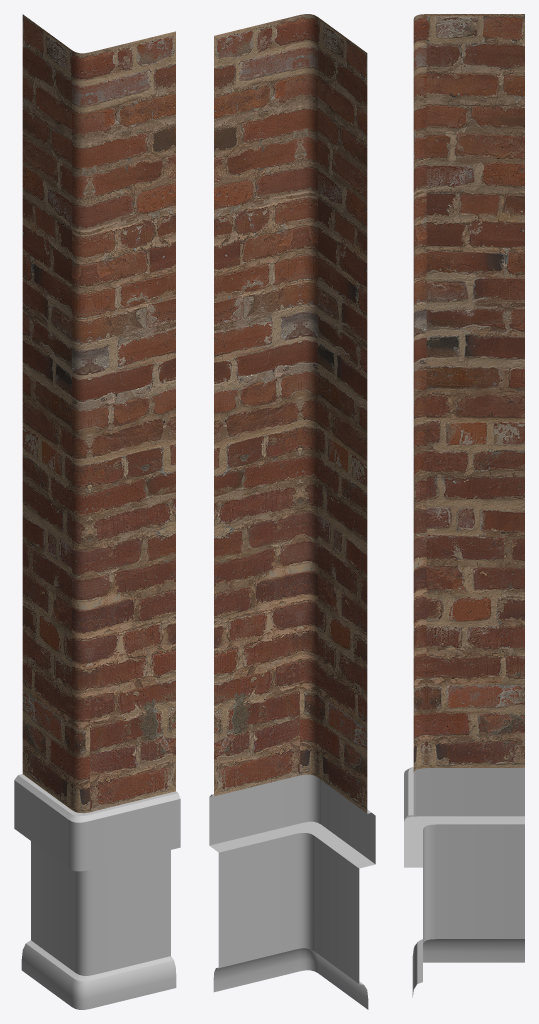
File: SM_Wall_Windows_Corner.fbx
3 views of the same model, side by side, from view 1: azimuth 30°, elevation 25°; view 2: azimuth 210°, elevation 25°; view 3: azimuth 270°, elevation 25° (orthographic).
Visible parts, largest first — view 1: SM_Wall_Windows_Corner; view 2: SM_Wall_Windows_Corner; view 3: SM_Wall_Windows_Corner.
Boxes of the visible parts, box(x1,y1,x2,y2) form: SM_Wall_Windows_Corner: box(14, 14, 180, 1009); SM_Wall_Windows_Corner: box(209, 14, 375, 1009); SM_Wall_Windows_Corner: box(404, 14, 524, 997).
Size of the model in its own units: 92.38 by 92.38 by 800.
